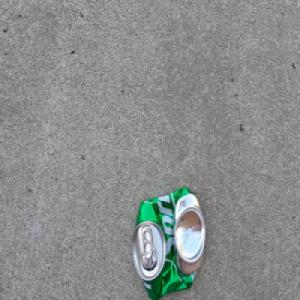SodaCan: (130, 185, 205, 300)
